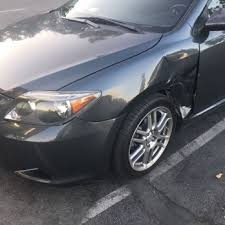Dent: (147, 48, 199, 121)
